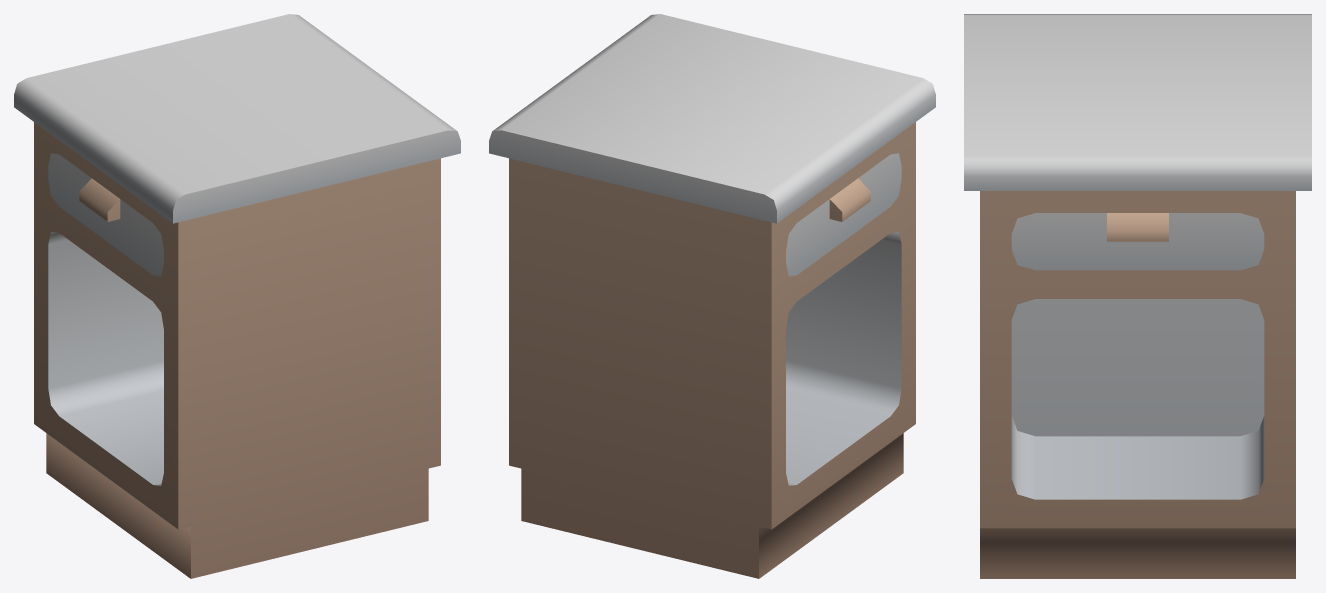
Rendered from cabinet-basic-island-drawer.glb.
The picture shows the model from 3 angles, left to right: view 1: azimuth 30°, elevation 25°; view 2: azimuth 150°, elevation 25°; view 3: azimuth 270°, elevation 25°; orthographic projection. The views are drawn at different scales.
Parts seen in each view (by area): view 1: cabinet-basic-island-drawer; view 2: cabinet-basic-island-drawer; view 3: cabinet-basic-island-drawer.
Part boxes in pixels (x1,y1,x2,y2): cabinet-basic-island-drawer: [14, 14, 460, 578]; cabinet-basic-island-drawer: [489, 14, 935, 578]; cabinet-basic-island-drawer: [964, 14, 1311, 578].
Bounding box in the file's own units: 0.575 × 0.75 × 0.55.
